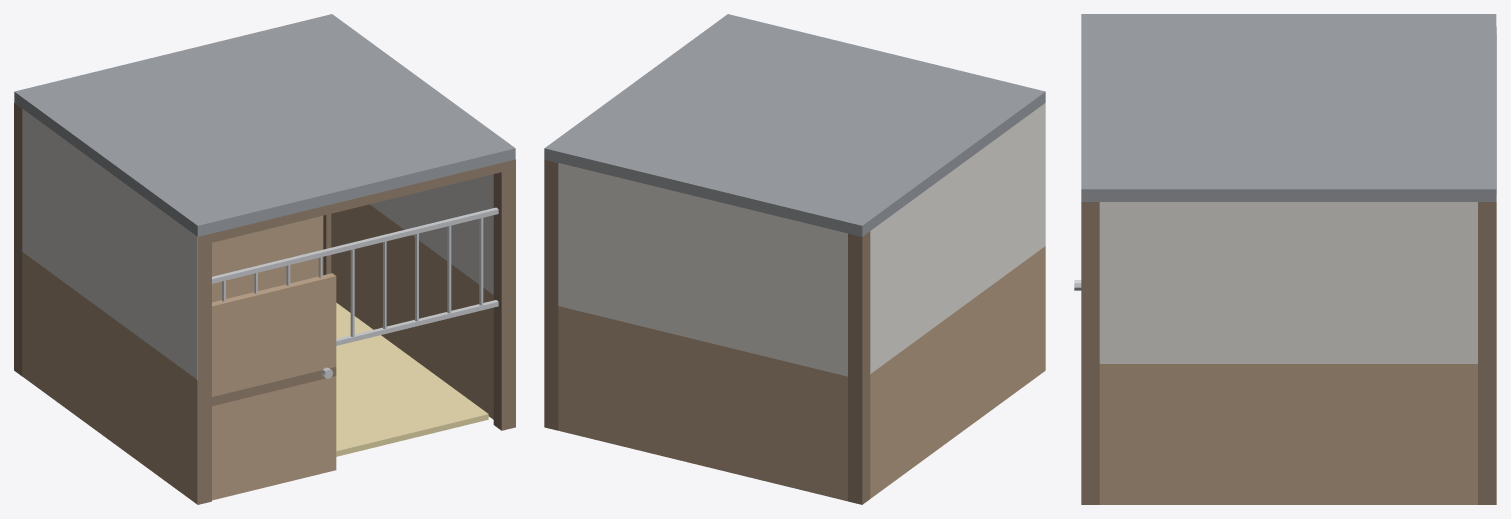
Rendered from stall-bay-with-door.glb.
3 renders of one model, left to right at view 1: azimuth 30°, elevation 25°; view 2: azimuth 150°, elevation 25°; view 3: azimuth 270°, elevation 25°, orthographic. The views are drawn at different scales.
Parts seen in each view (by area): view 1: stall-bay-door, stall-door (×2); view 2: stall-bay-door; view 3: stall-bay-door.
Part boxes in pixels (box(x1,y1,x2,y2)): stall-bay-door: box(14, 14, 515, 504); stall-door (×2): box(212, 273, 336, 500); stall-bay-door: box(544, 14, 1045, 504); stall-bay-door: box(1081, 14, 1496, 504).
Bounding box in the file's own units: 3.6 × 3.02 × 3.66.
